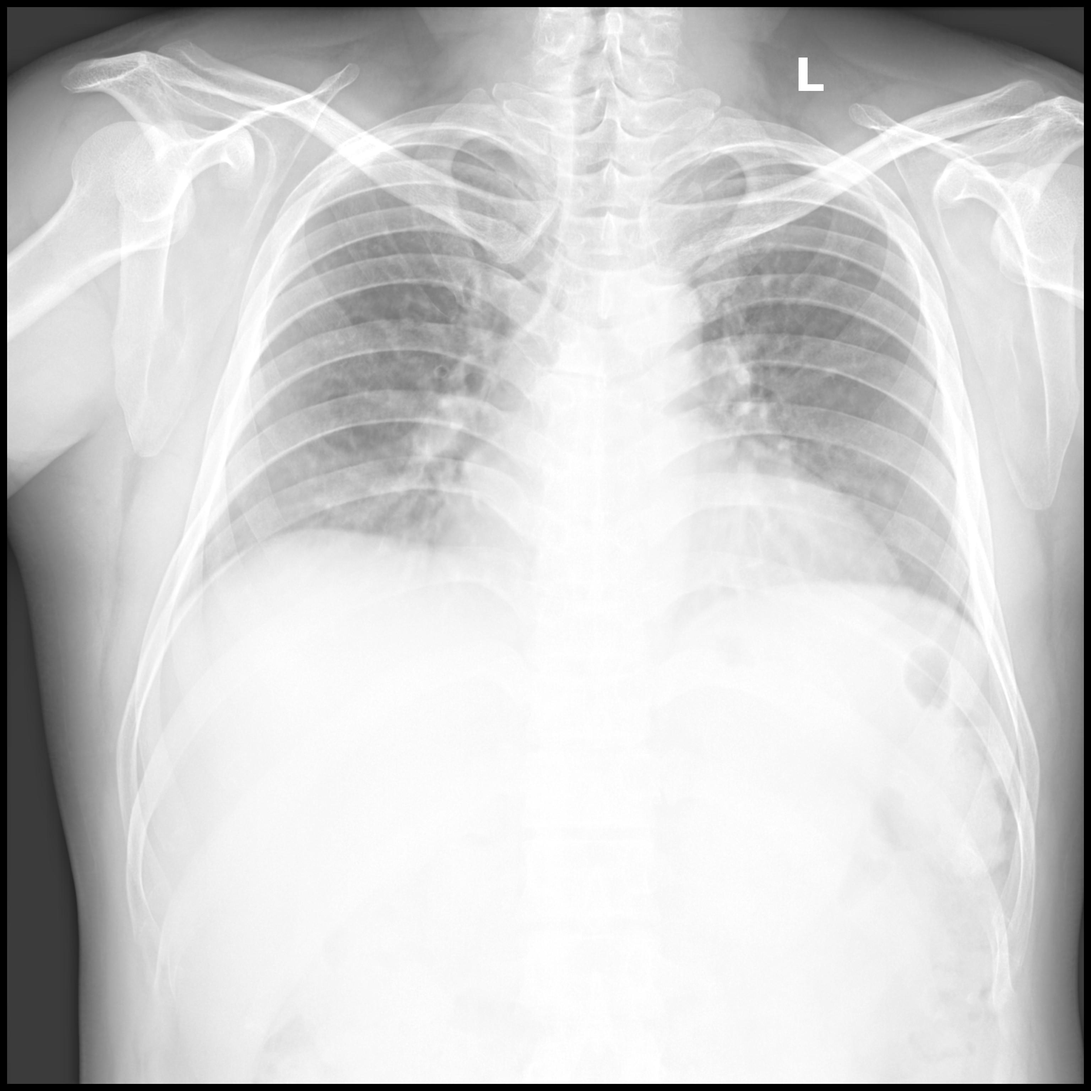Aortic enlargement: (605, 277, 705, 374)
Cardiomegaly: (435, 468, 897, 581)
